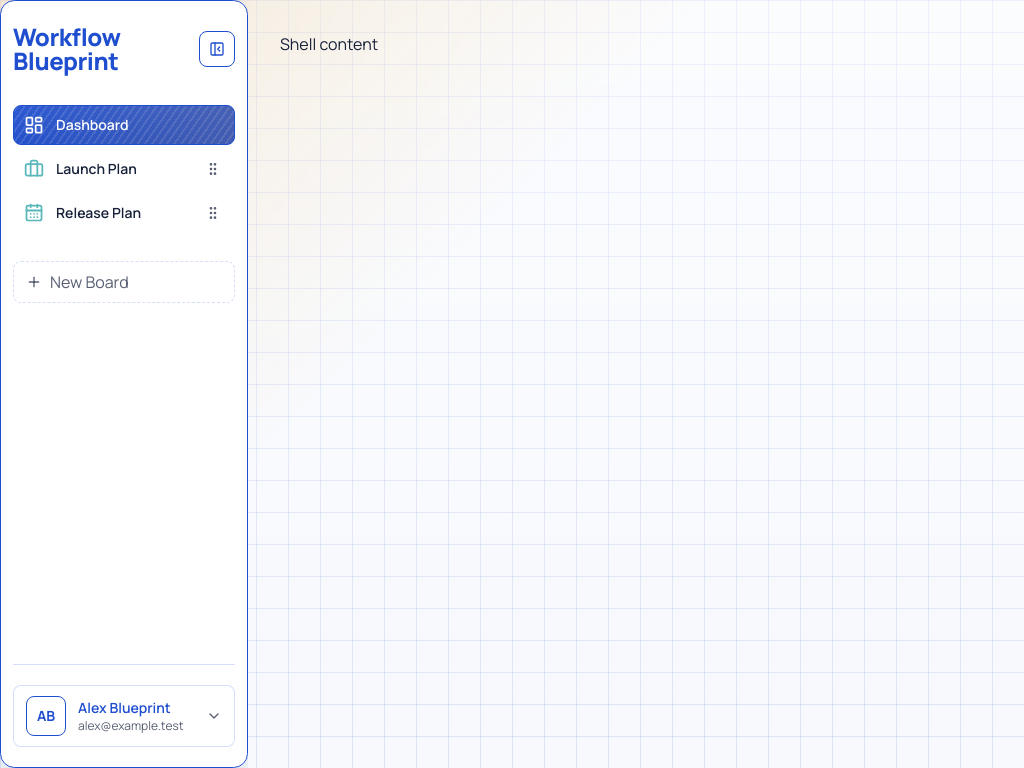
Test: AppShell collapsible sidebar › expands again when the expand toggle is clicked
Click the button named "Collapse sidebar".
click(217, 49)  # box x1=199 y1=31 x2=235 y2=67
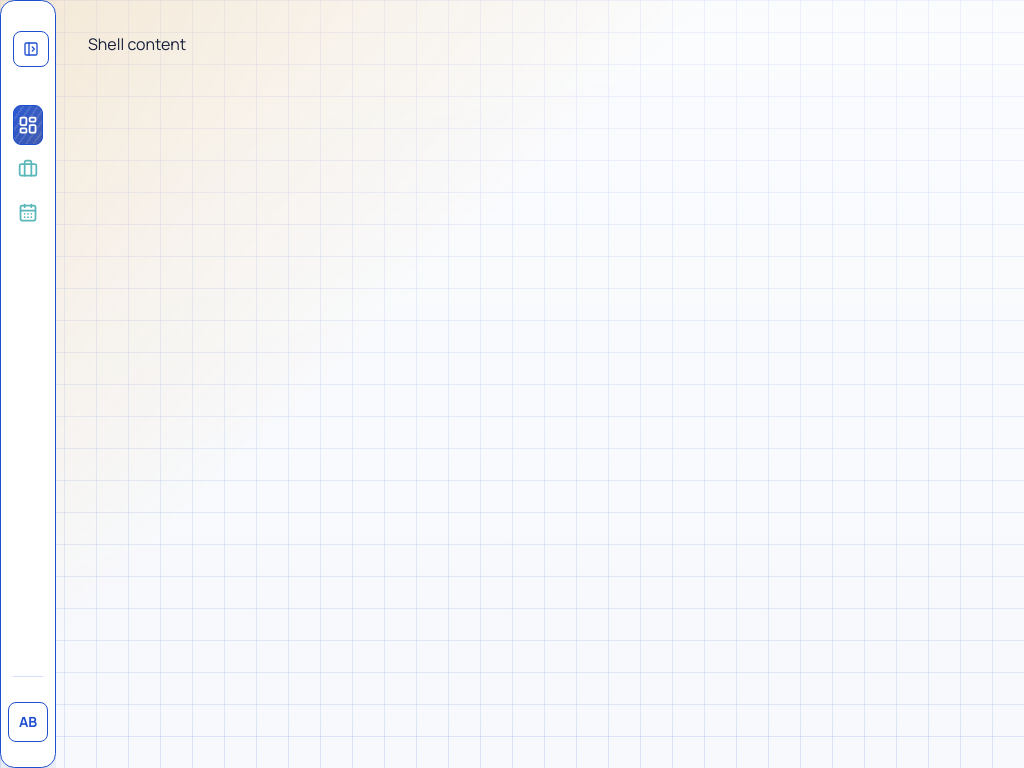
Click the button named "Expand sidebar".
click(31, 49)  # box x1=13 y1=31 x2=49 y2=67
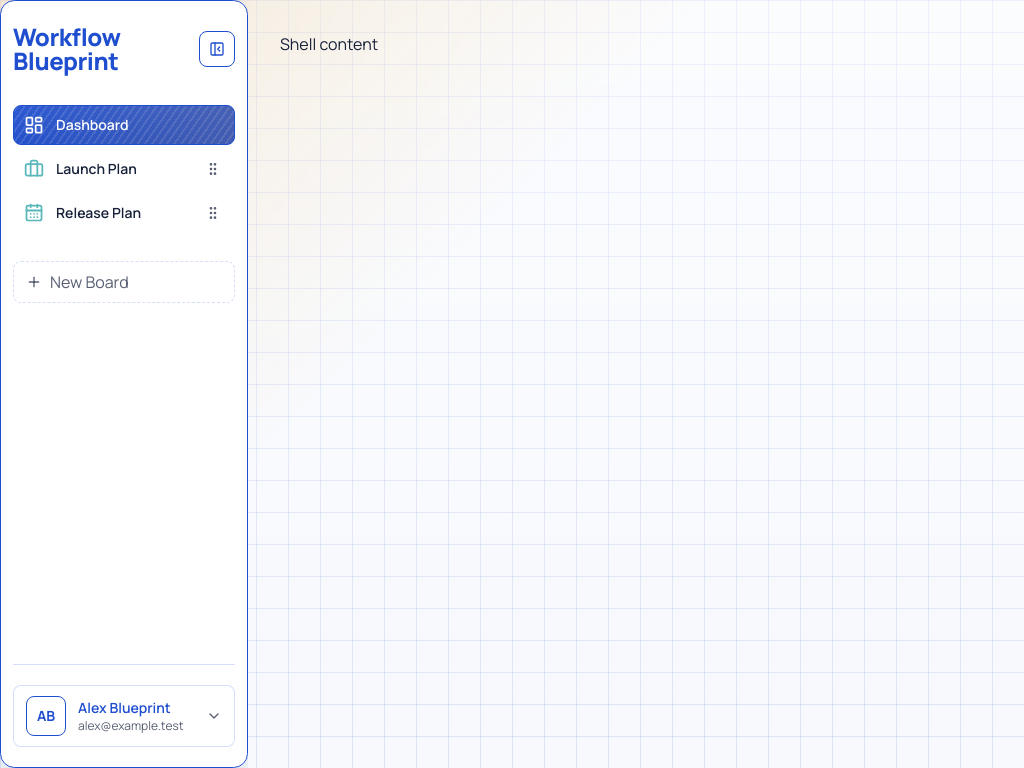
Expected: the text "Workflow" is shown, x1=13 y1=25 x2=120 y2=49
Expected: the text "Blueprint" is shown, x1=13 y1=49 x2=120 y2=73
